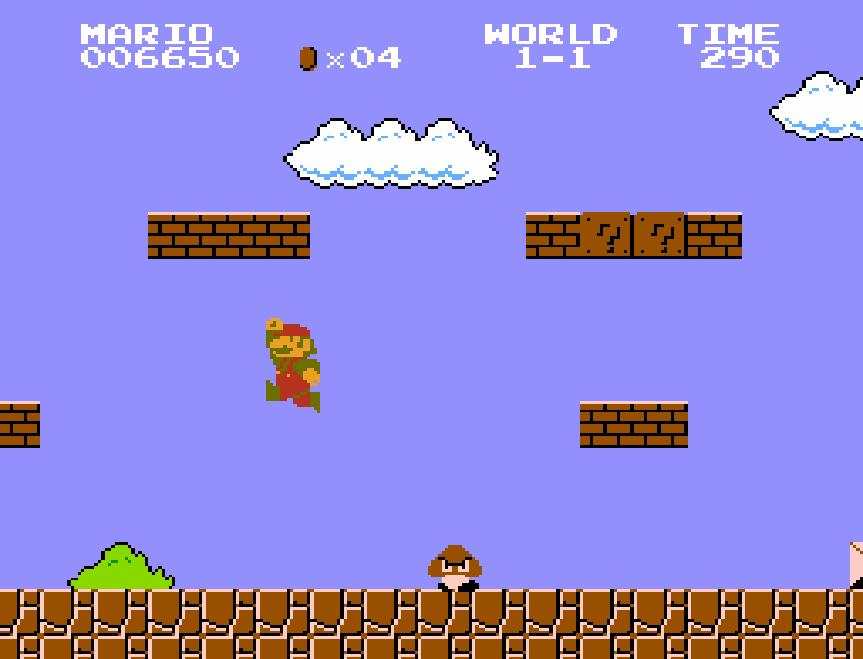big_mario: (264, 316, 322, 414)
